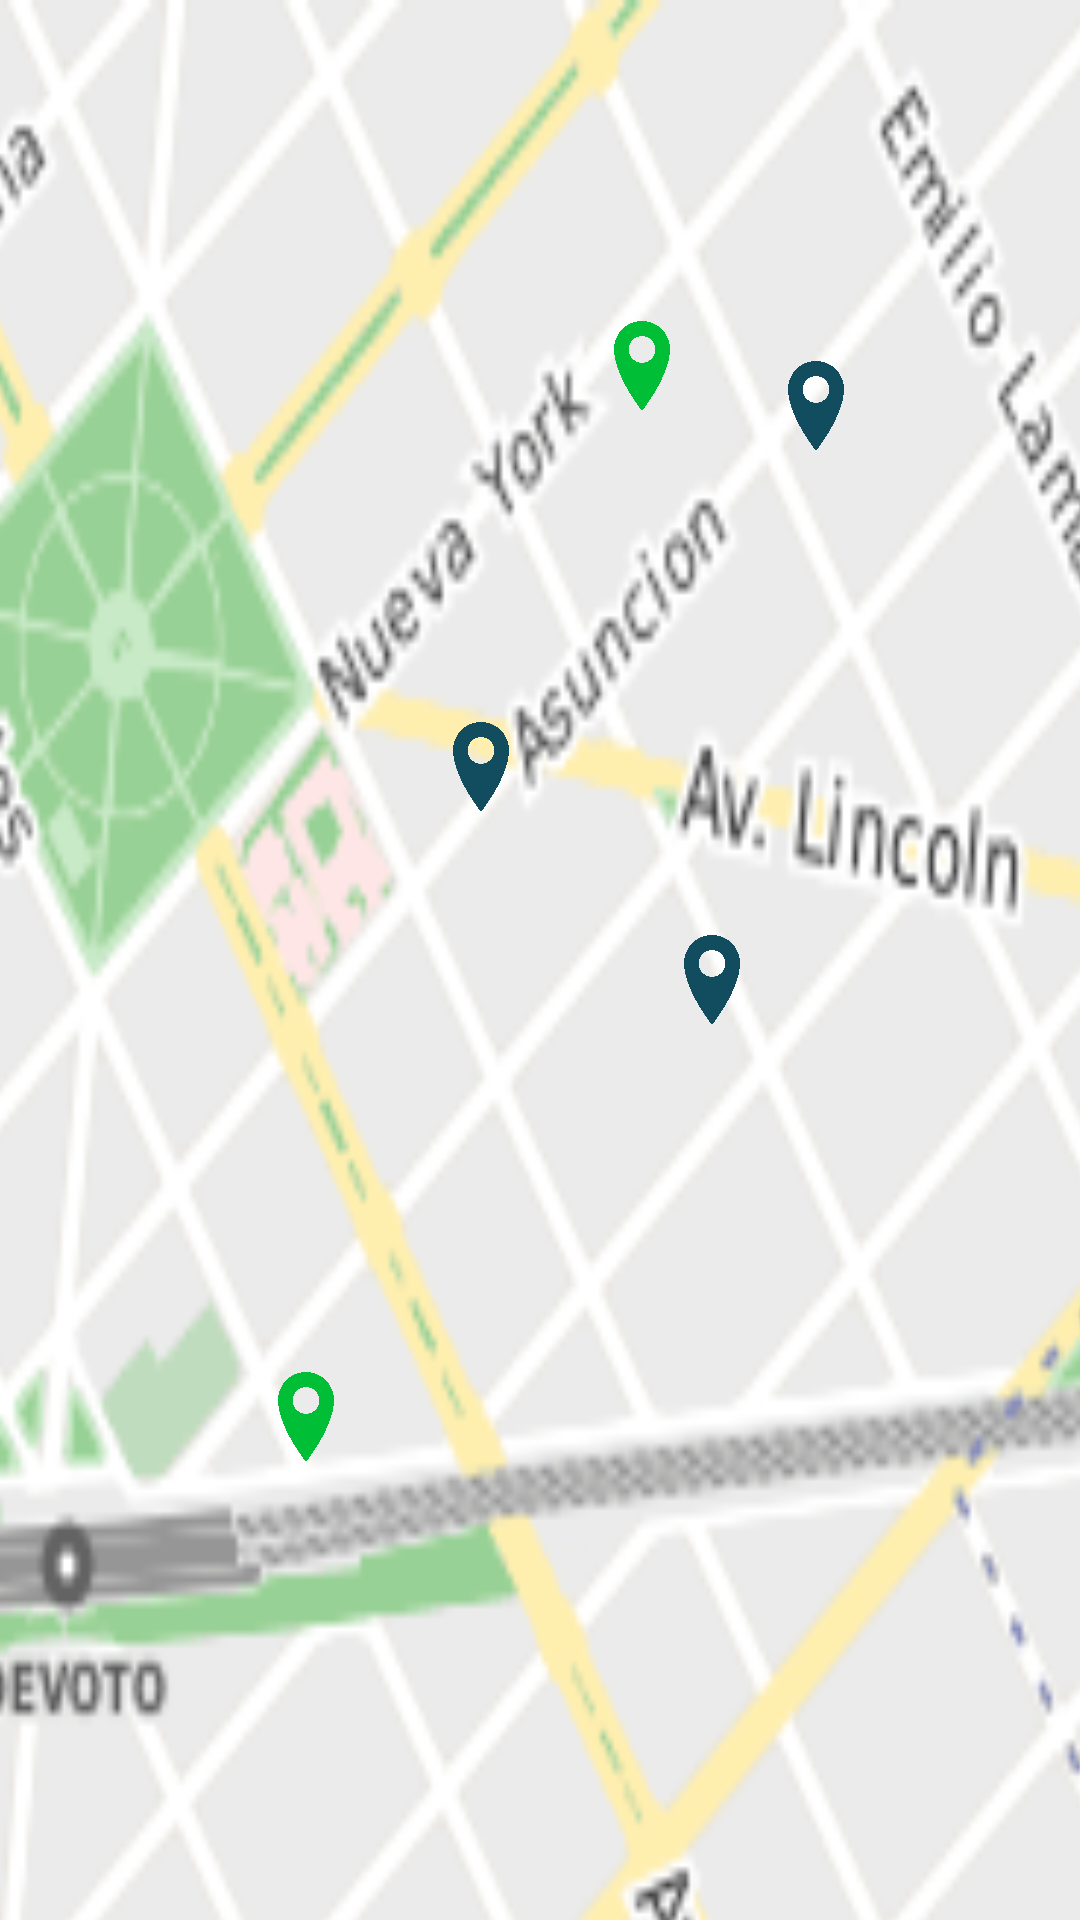

Point at icon controls on the screen. Image size 1080x1920, points as point (x, y).
verde: point (642, 365), point (306, 1416)
